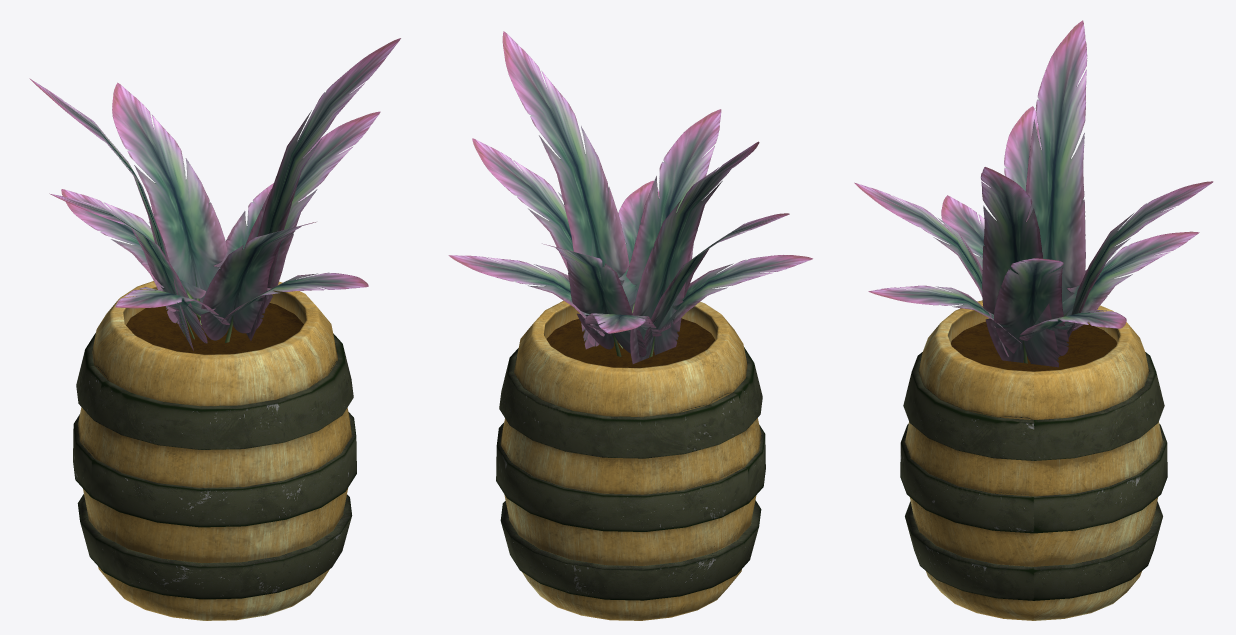
The model's file is Planter(normal).fbx.
The picture shows the model from 3 angles, left to right: view 1: azimuth 30°, elevation 25°; view 2: azimuth 150°, elevation 25°; view 3: azimuth 270°, elevation 25°; orthographic projection. The views are drawn at different scales.
Parts seen in each view (by area): view 1: barrel_low, Barrel_leaves; view 2: barrel_low, Barrel_leaves; view 3: barrel_low, Barrel_leaves.
Boxes of the visible parts, <box> form: barrel_low: <box>73,281,356,620</box>; Barrel_leaves: <box>29,38,400,350</box>; barrel_low: <box>496,300,765,620</box>; Barrel_leaves: <box>448,31,812,363</box>; barrel_low: <box>900,300,1167,620</box>; Barrel_leaves: <box>854,20,1213,367</box>.
Bounding box in the file's own units: 4.54 × 6.46 × 4.52.
2 materials, 2 textured.
